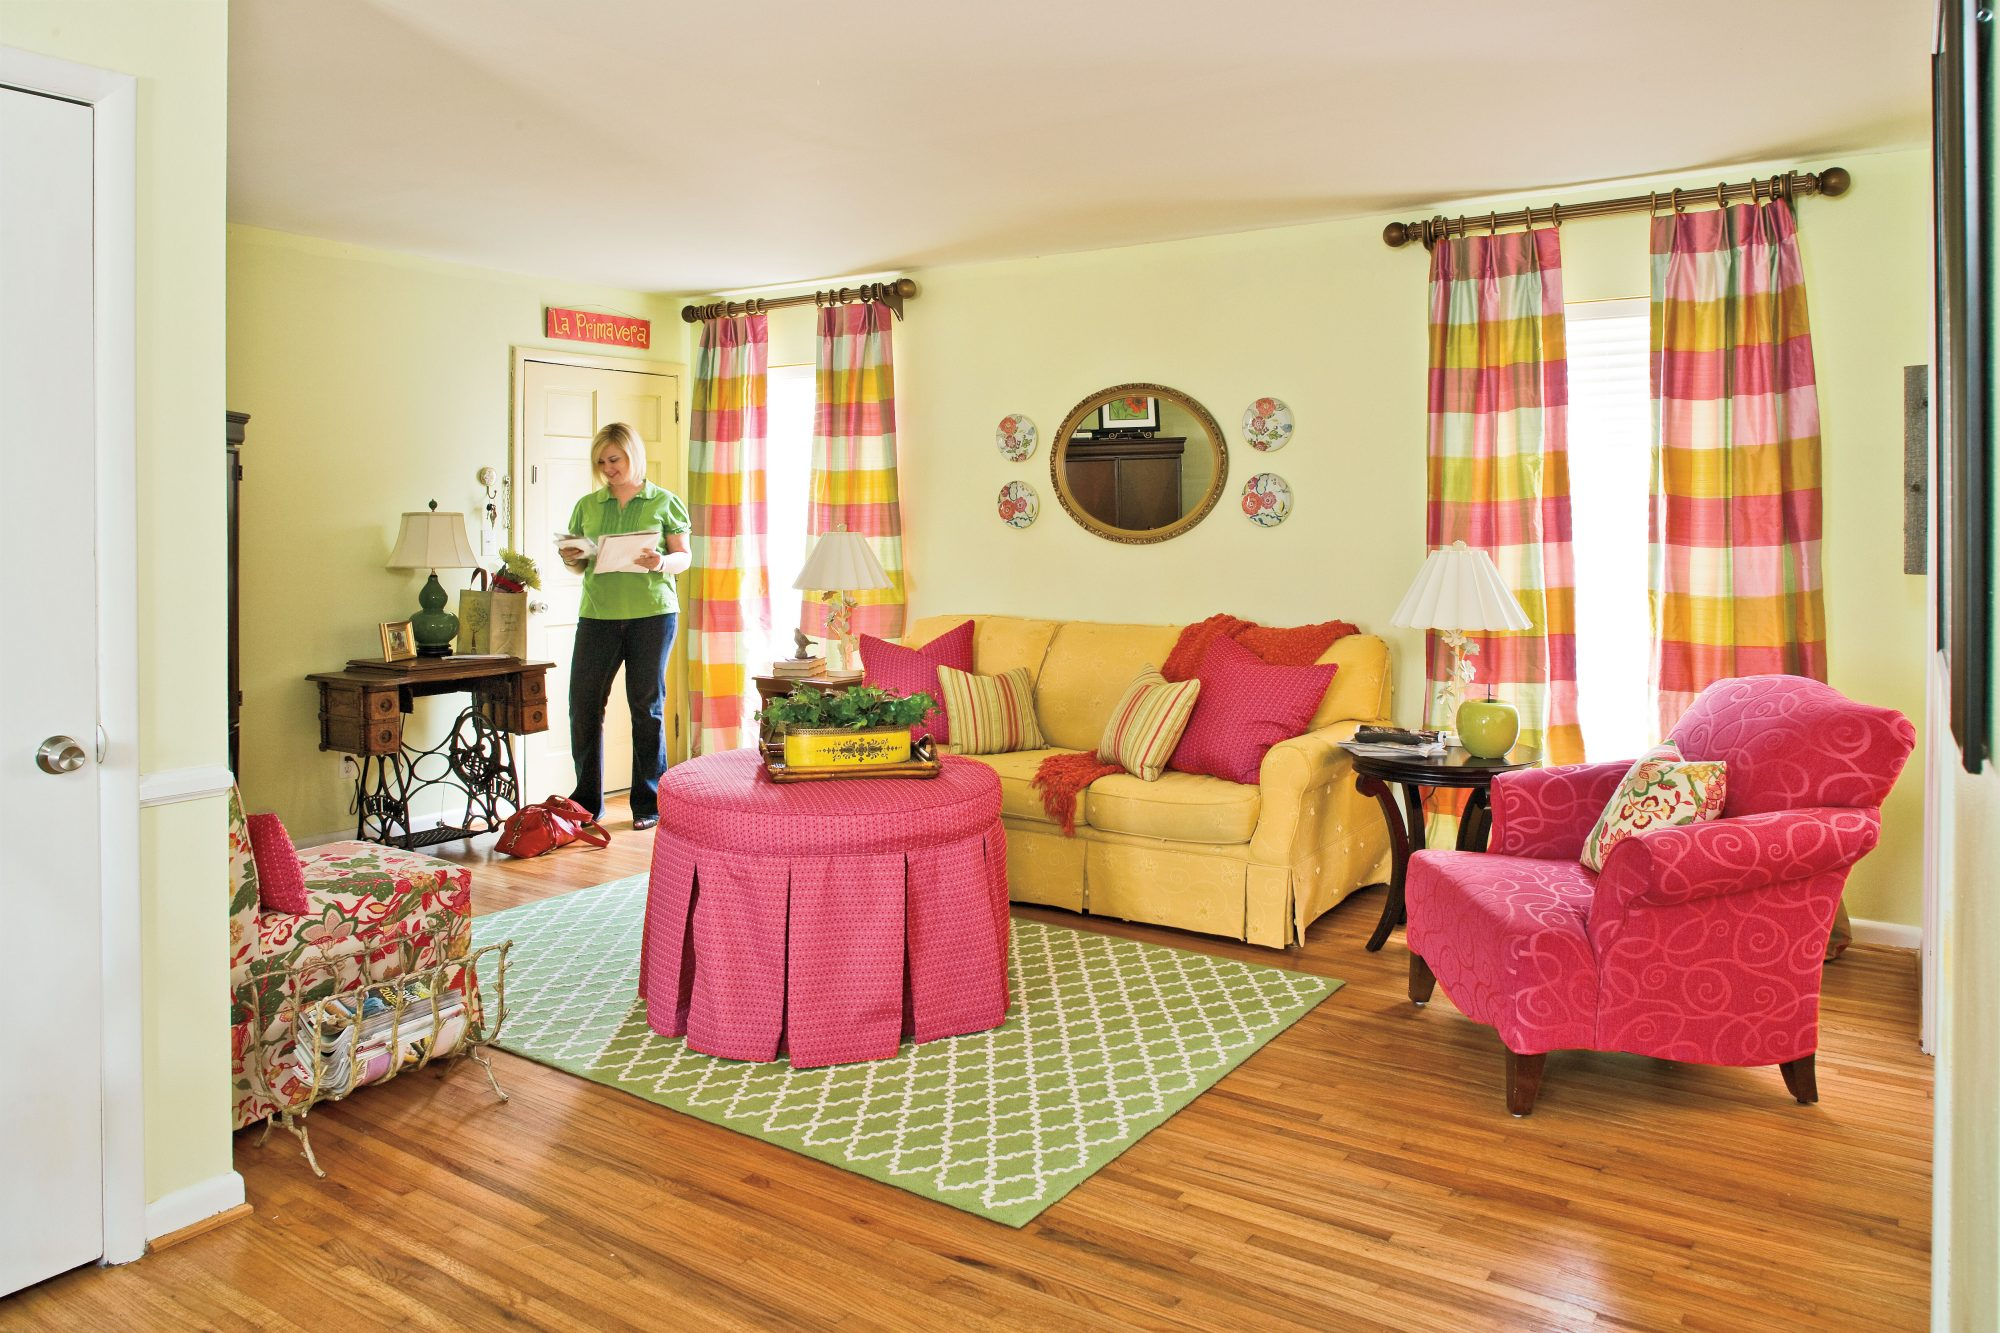coklat: (311, 661, 553, 742)
hijau: (1459, 699, 1518, 757), (413, 577, 457, 652)
pink: (1423, 803, 1875, 1067), (639, 768, 1020, 1058), (1182, 661, 1325, 774), (861, 634, 955, 739), (253, 817, 305, 912)
putih: (1404, 543, 1527, 635), (799, 536, 894, 589), (391, 512, 480, 568)
